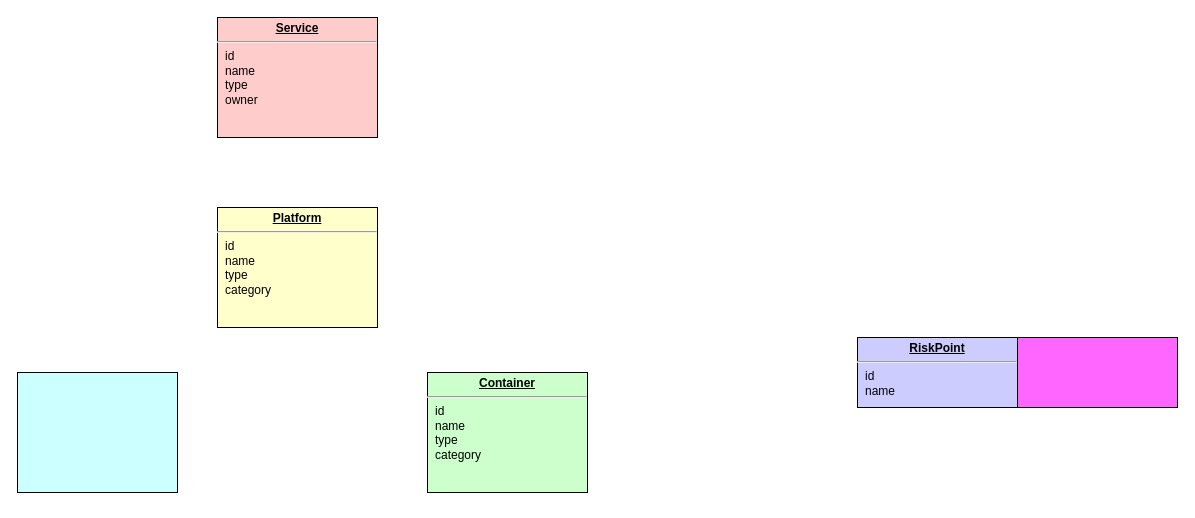
This 1195x518 diagram has some shape labels left out. The box of each missing label's shape, as (x1, y1, x2, y2) in pixels:
Physcal Mechine id name type category: (16, 372, 178, 492)
Support Measure id name: (1016, 336, 1178, 408)
